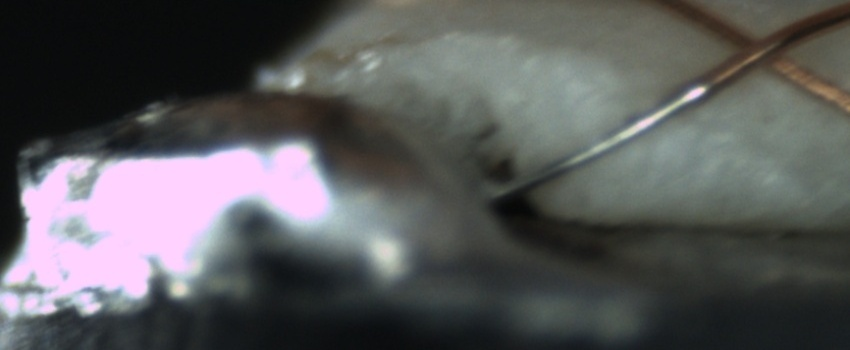CL: (715, 16, 810, 83)
TS: (483, 81, 712, 203)
TTCW: (484, 53, 746, 201)
